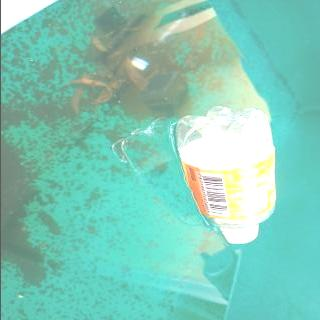bottle: (170, 104, 282, 246)
